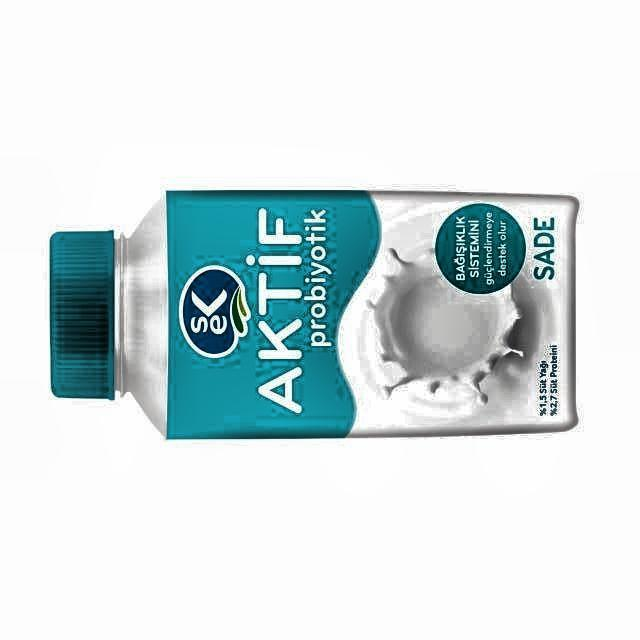plastic: (50, 190, 578, 439)
